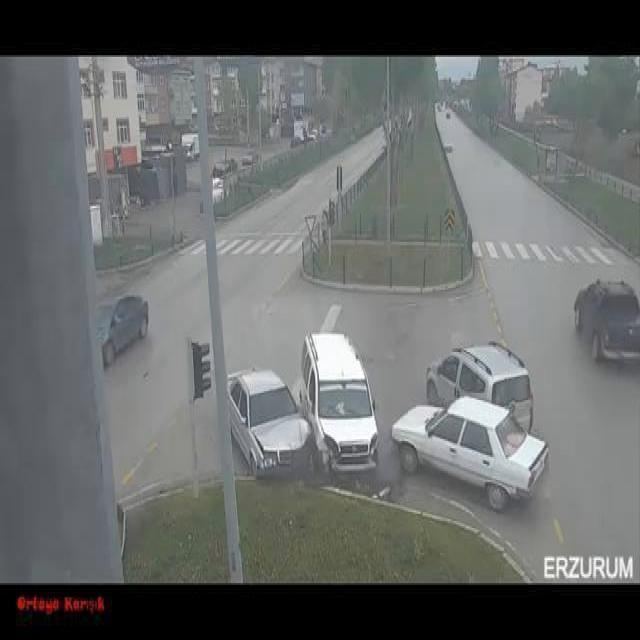multiple_accident: (227, 354, 534, 517)
